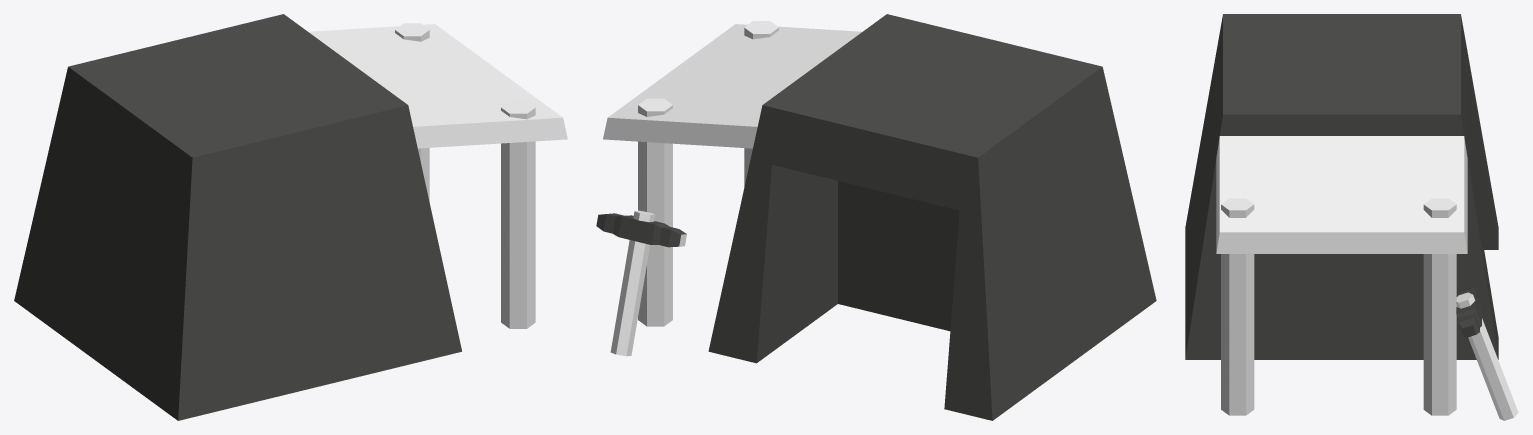
File: Mine2.fbx
3 views of the same model, side by side, from view 1: azimuth 30°, elevation 25°; view 2: azimuth 150°, elevation 25°; view 3: azimuth 270°, elevation 25° (orthographic). The views are drawn at different scales.
Parts seen in each view (by area): view 1: Cube; view 2: Cube; view 3: Cube.
Boxes of the visible parts, x1,y1,x2,y2 form: Cube: (14, 14, 567, 420); Cube: (596, 14, 1156, 420); Cube: (1185, 14, 1518, 420).
Bounding box in the file's own units: 287 × 176 × 213.
